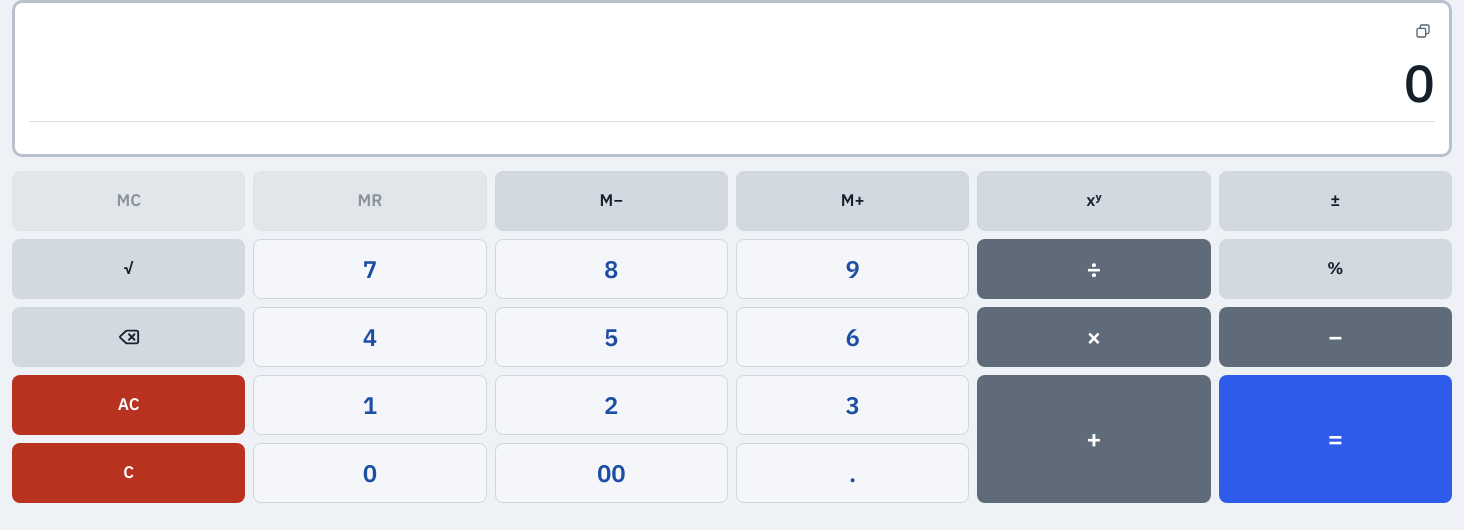
it: Calculator › shows the pending operation, which can change before the second number
Step 1. Click the button "1" → (370, 405), box x1=253 y1=375 x2=487 y2=435
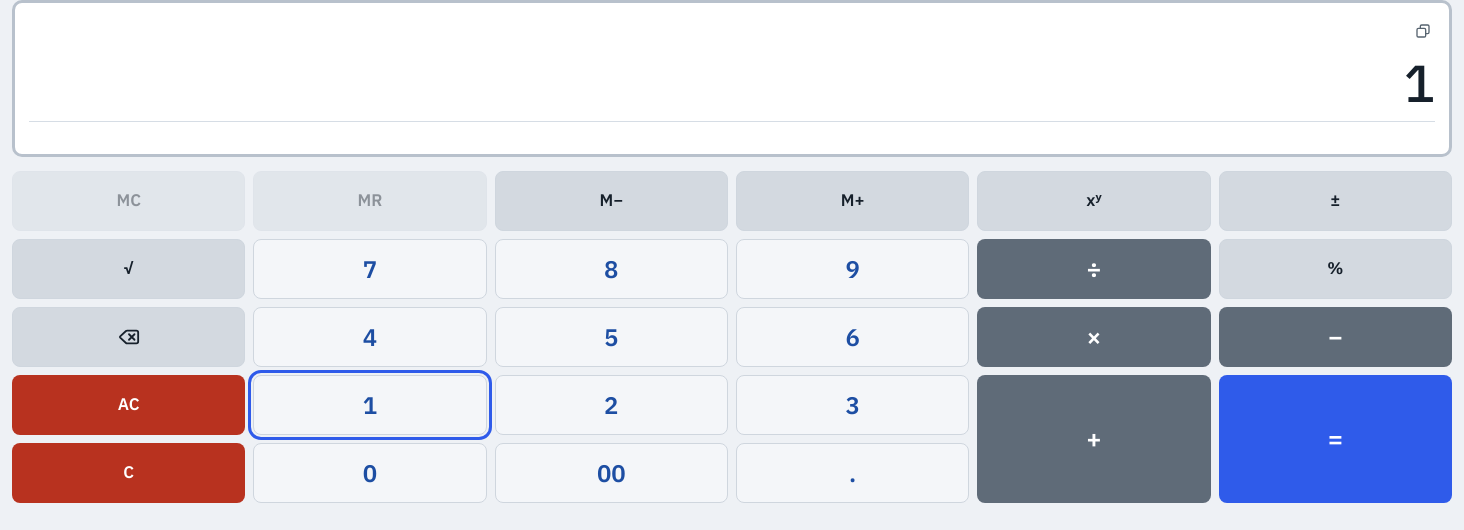
Step 2. Click the button "2" → (611, 405), box x1=495 y1=375 x2=728 y2=435
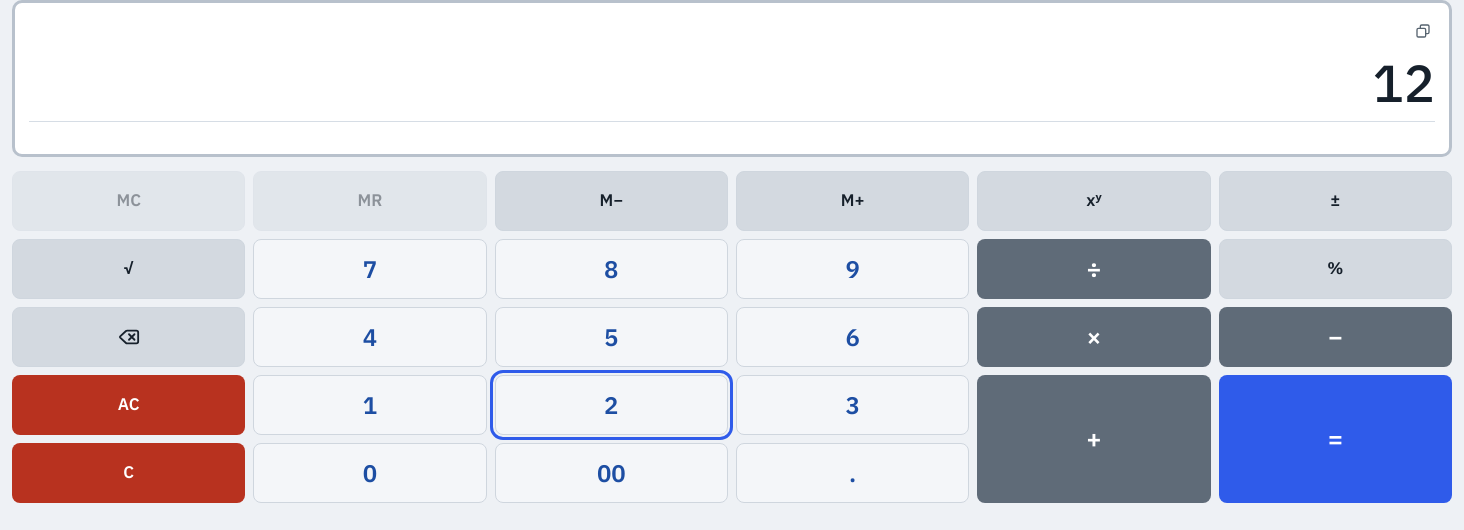
Step 3. Click the button named "Add" → (1094, 439), box x1=977 y1=375 x2=1211 y2=503
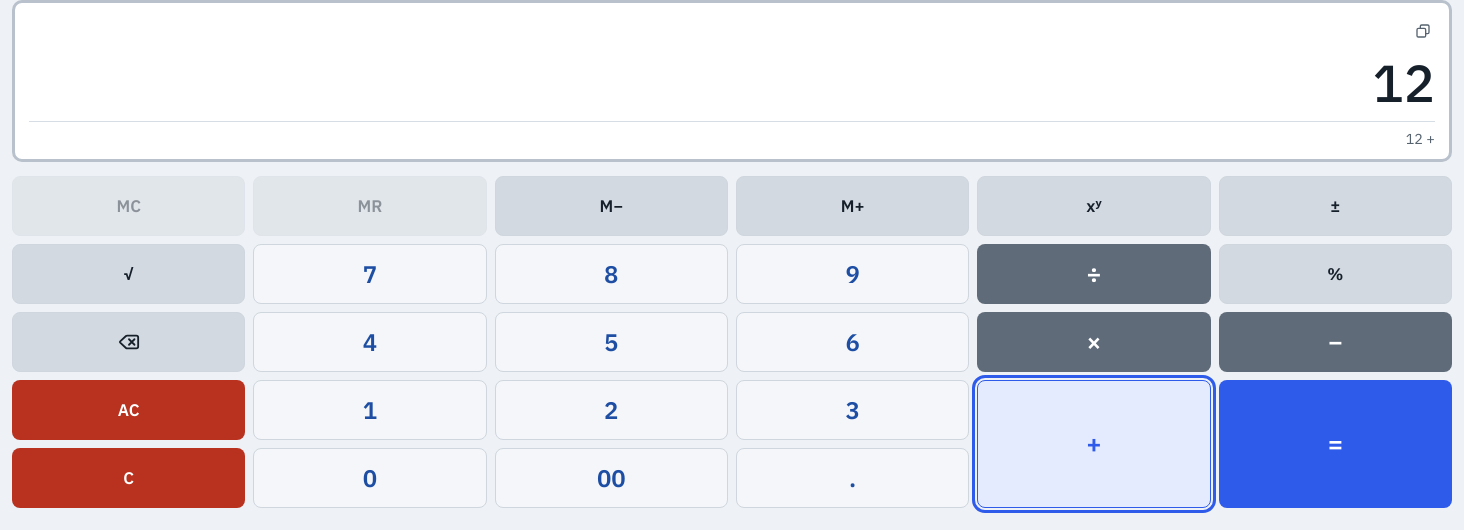
Now the text with test id "expression" reads "12 +", box x1=1406 y1=129 x2=1435 y2=148
Step 4. Click the button named "Multiply" → (1094, 342), box x1=977 y1=312 x2=1211 y2=372
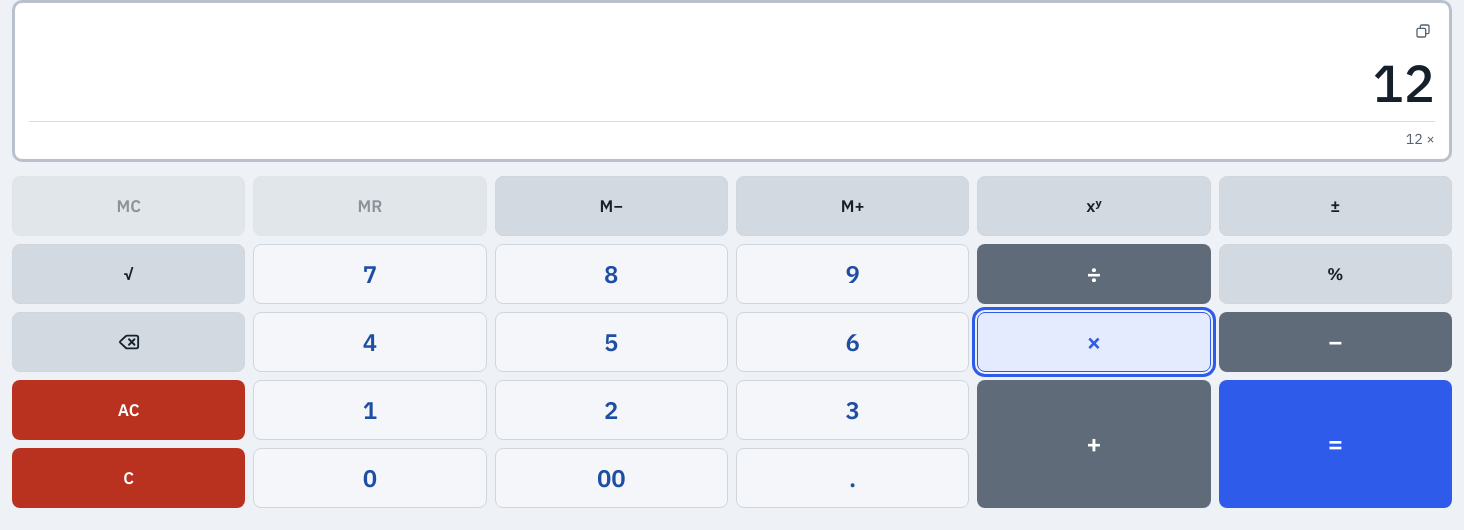
Step 5. Click the button "3" → (853, 410), box x1=736 y1=380 x2=969 y2=440
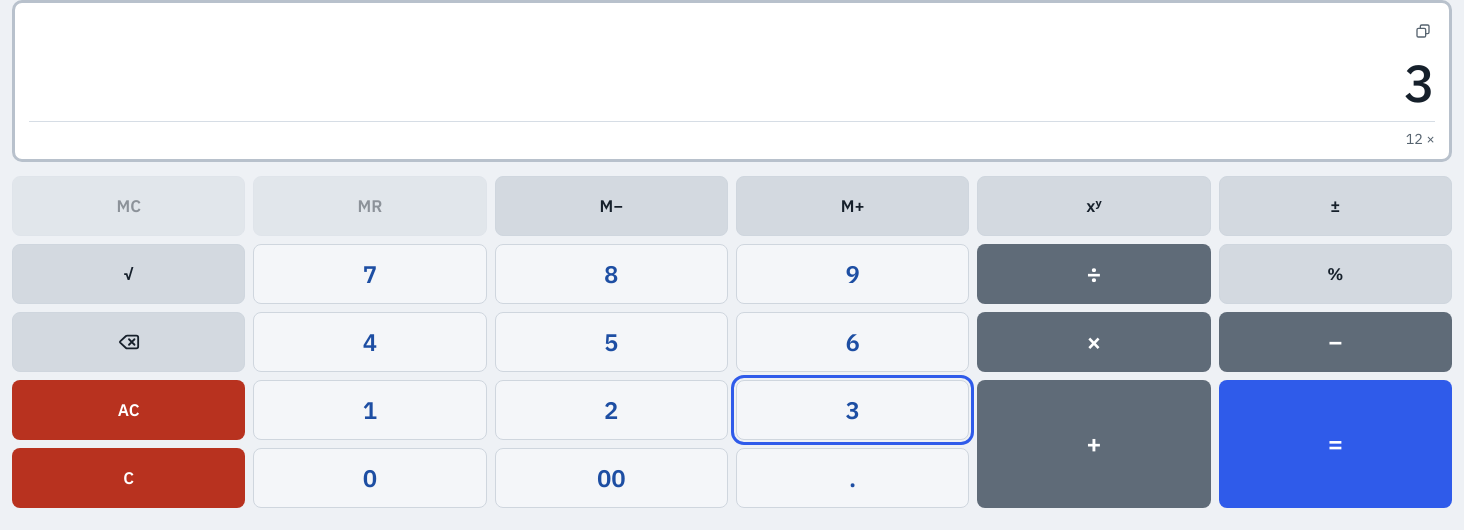
Step 6. Click the button named "Equals" → (1335, 444), box x1=1219 y1=380 x2=1452 y2=508
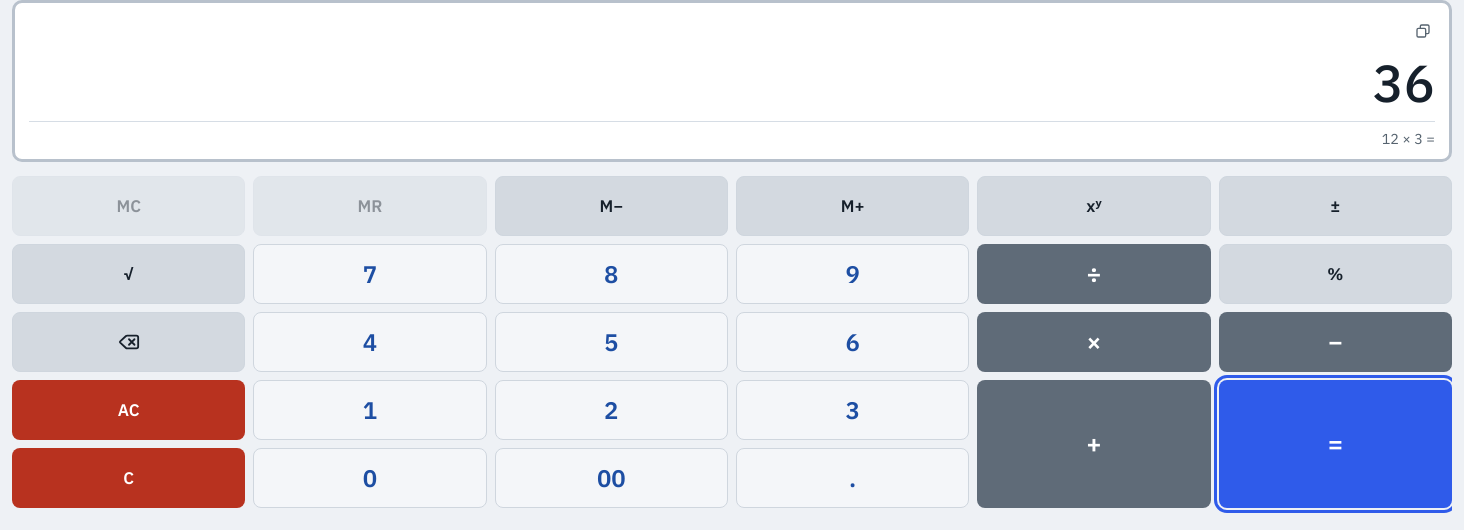
Now the text with test id "result" reads "36", box x1=1373 y1=49 x2=1435 y2=116
